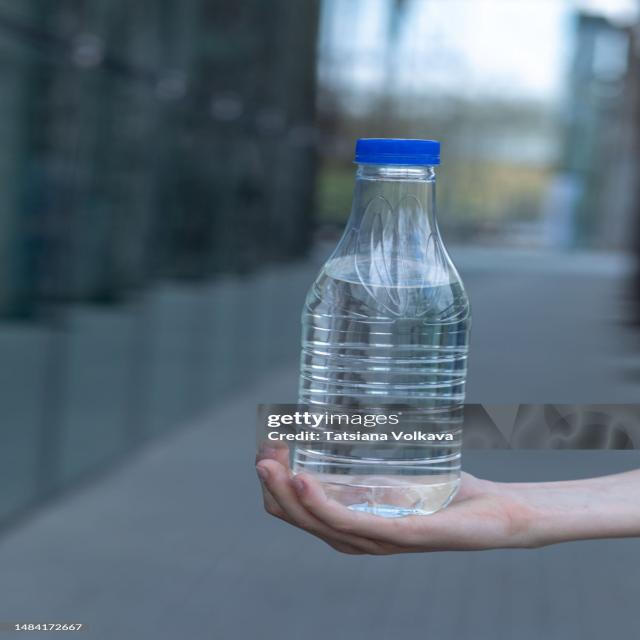bottle: (284, 133, 478, 522)
